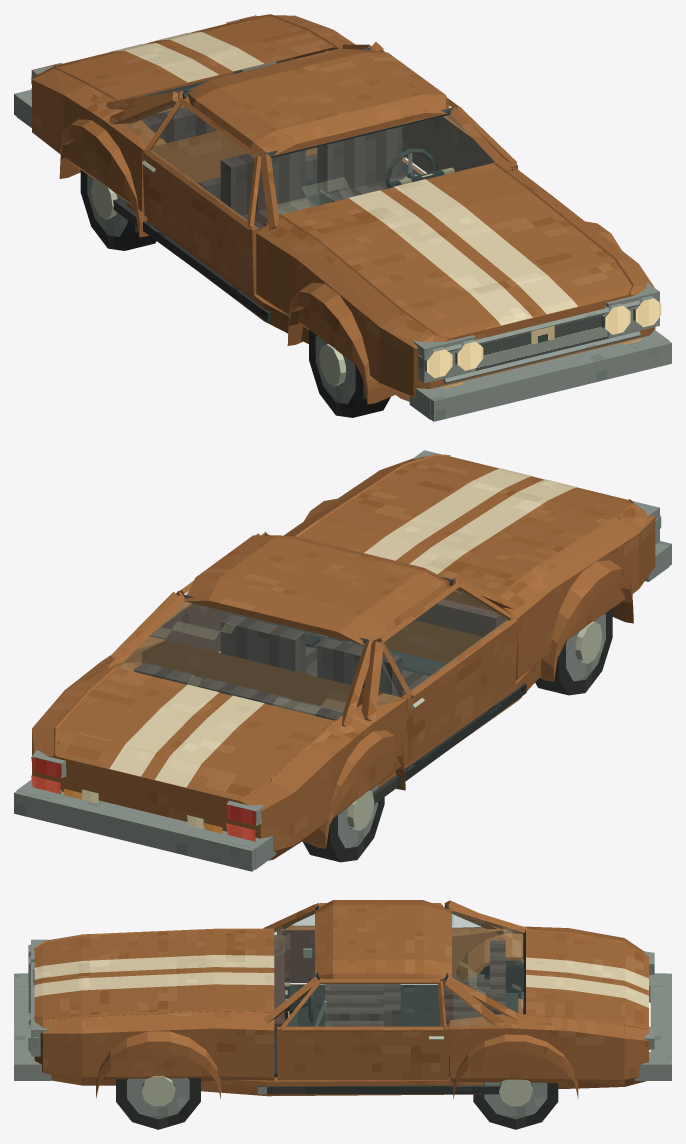
Rendered from rowanvale-1970.glb.
3 renders of one model, top to bottom at view 1: azimuth 30°, elevation 25°; view 2: azimuth 150°, elevation 25°; view 3: azimuth 270°, elevation 25°, orthographic. The views are drawn at different scales.
Visible parts, largest first — view 1: body, Hood opening panel, Trunk opening panel, Shaped hinged outer door.001, Hinged side glass.001, Optional painted racing stripe.001, Optional painted racing stripe, Padded inside door panel, Optional painted racing stripe.003, Optional painted racing stripe.002, Tyre tread and scalloped shoulders.001, Tyre tread and scalloped shoulders.003 (+6 smaller); view 2: body, Hood opening panel, Trunk opening panel, Shaped hinged outer door.001, Hinged side glass.001, Optional painted racing stripe, Optional painted racing stripe.001, Optional painted racing stripe.003, Optional painted racing stripe.002, Padded inside door panel, Tyre tread and scalloped shoulders.001, Tyre tread and scalloped shoulders.003 (+5 smaller); view 3: body, Hood opening panel, Shaped hinged outer door, Trunk opening panel, Hinged side glass, Optional painted racing stripe, Optional painted racing stripe.001, Optional painted racing stripe.003, Optional painted racing stripe.002, Padded inside door panel.001, Tyre tread and scalloped shoulders, Wheel side annulus (+7 smaller).
Part boxes in pixels (bbox=[...]): body: bbox=[14, 15, 671, 421]; Hood opening panel: bbox=[281, 163, 631, 338]; Trunk opening panel: bbox=[56, 16, 334, 99]; Shaped hinged outer door.001: bbox=[142, 150, 253, 294]; Hinged side glass.001: bbox=[150, 105, 253, 220]; Optional painted racing stripe.001: bbox=[394, 179, 577, 314]; Optional painted racing stripe: bbox=[349, 190, 532, 325]; Padded inside door panel: bbox=[402, 116, 510, 173]; Optional painted racing stripe.003: bbox=[156, 32, 264, 71]; Optional painted racing stripe.002: bbox=[110, 43, 218, 82]; Tyre tread and scalloped shoulders.001: bbox=[309, 330, 390, 417]; Tyre tread and scalloped shoulders.003: bbox=[80, 170, 156, 250]; body: bbox=[14, 450, 671, 871]; Hood opening panel: bbox=[298, 455, 631, 595]; Trunk opening panel: bbox=[55, 668, 334, 800]; Shaped hinged outer door.001: bbox=[406, 618, 517, 763]; Hinged side glass.001: bbox=[385, 588, 508, 691]; Optional painted racing stripe: bbox=[409, 479, 577, 574]; Optional painted racing stripe.001: bbox=[364, 468, 532, 560]; Optional painted racing stripe.003: bbox=[109, 684, 219, 776]; Optional painted racing stripe.002: bbox=[154, 695, 264, 787]; Padded inside door panel: bbox=[150, 603, 260, 652]; Tyre tread and scalloped shoulders.001: bbox=[535, 608, 612, 695]; Tyre tread and scalloped shoulders.003: bbox=[302, 797, 384, 862]; body: bbox=[14, 900, 671, 1099]; Hood opening panel: bbox=[34, 930, 274, 1017]; Shaped hinged outer door: bbox=[277, 1029, 449, 1080]; Trunk opening panel: bbox=[526, 931, 648, 1027]; Hinged side glass: bbox=[287, 984, 440, 1025]; Optional painted racing stripe: bbox=[34, 955, 274, 979]; Optional painted racing stripe.001: bbox=[34, 972, 274, 997]; Optional painted racing stripe.003: bbox=[526, 974, 648, 1007]; Optional painted racing stripe.002: bbox=[526, 957, 648, 990]; Padded inside door panel.001: bbox=[277, 930, 314, 982]; Tyre tread and scalloped shoulders: bbox=[116, 1078, 200, 1129]; Wheel side annulus: bbox=[127, 1078, 189, 1119].
Bounding box in the file's own units: 2.09 × 1.32 × 5.27.
Materials: 6 (6 with a texture image).
